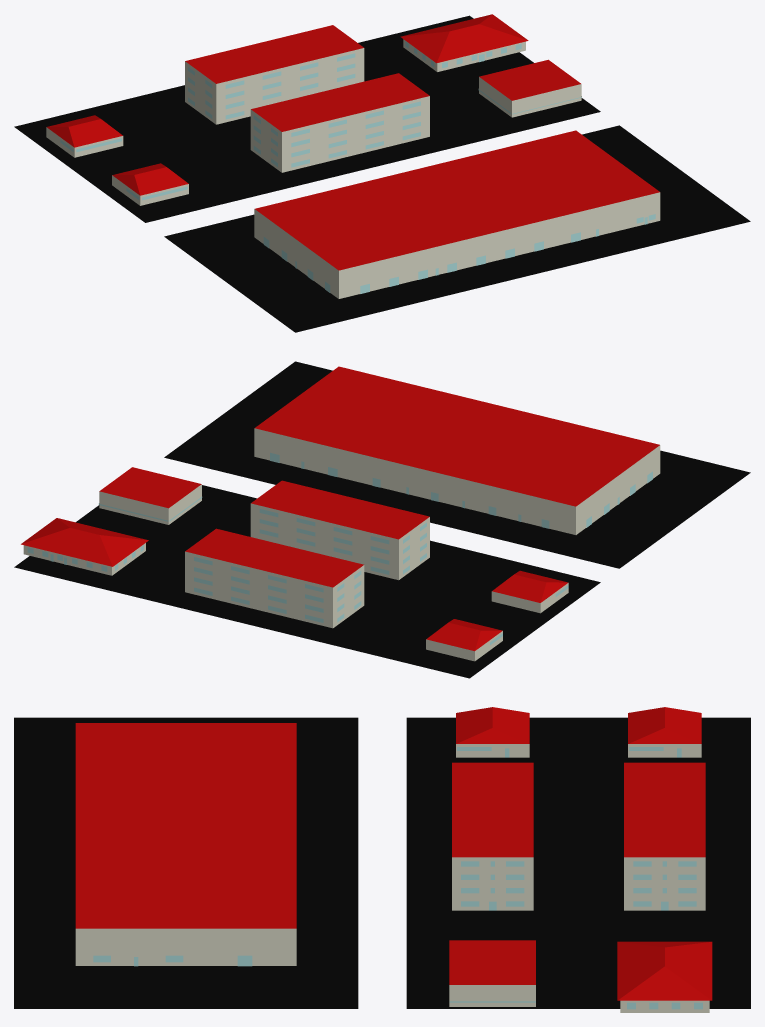
The picture shows the model from 3 angles, top to bottom: view 1: azimuth 30°, elevation 25°; view 2: azimuth 150°, elevation 25°; view 3: azimuth 270°, elevation 25°; orthographic projection. The views are drawn at different scales.
Visible parts, largest first — view 1: Ground, Roofs, Walls, Windows; view 2: Ground, Roofs, Walls, Windows; view 3: Ground, Roofs, Walls, Windows.
Part boxes in pixels (bbox=[...]): Ground: bbox=[14, 15, 750, 332]; Roofs: bbox=[47, 14, 659, 270]; Walls: bbox=[46, 39, 660, 298]; Windows: bbox=[60, 41, 655, 293]; Ground: bbox=[14, 361, 750, 678]; Roofs: bbox=[21, 366, 659, 651]; Walls: bbox=[23, 428, 660, 661]; Windows: bbox=[27, 452, 652, 645]; Ground: bbox=[14, 717, 750, 1008]; Roofs: bbox=[75, 707, 712, 1000]; Walls: bbox=[75, 744, 709, 1012]; Windows: bbox=[93, 747, 702, 1009].
Size of the model in its own units: 145 by 12.19 by 152.
